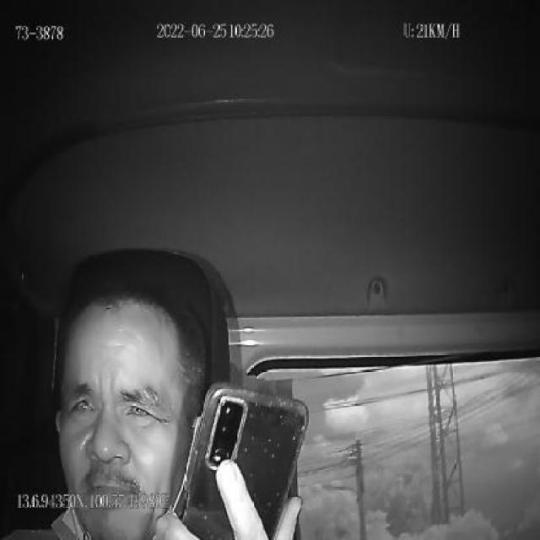phone: (180, 381, 310, 540)
